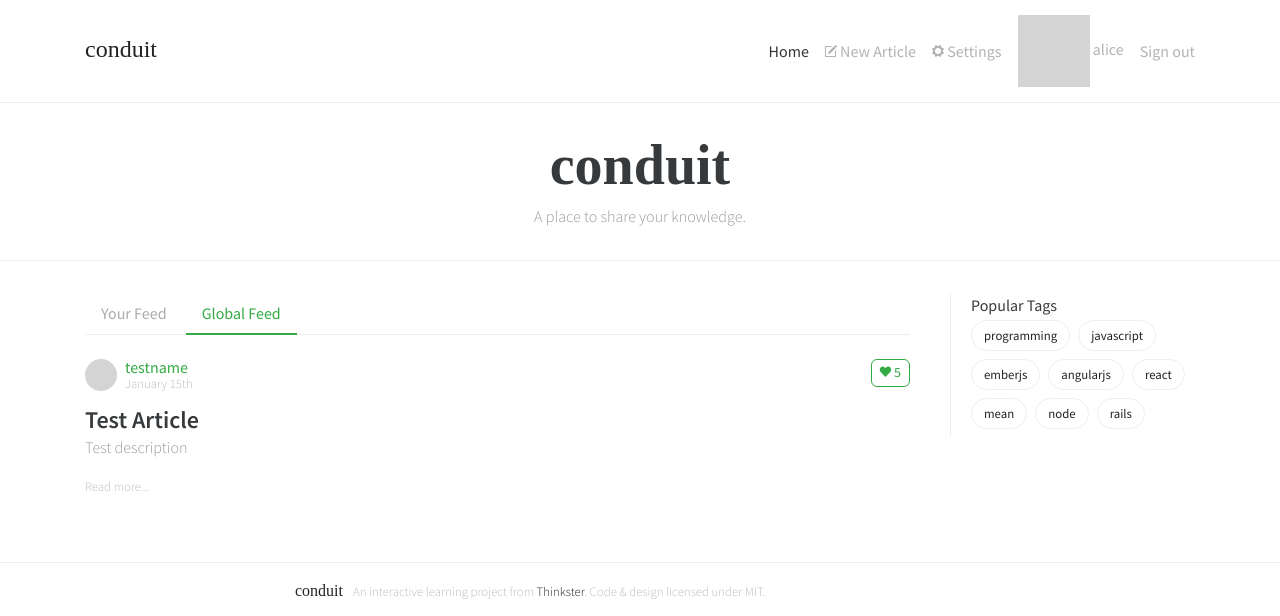
Test: ArticleList Component › adding article to favorite
expect the heading "Test Article" is shown: met, box [85,404,199,435]
Click the button "5".
click(890, 373)  # box [871,359,910,387]
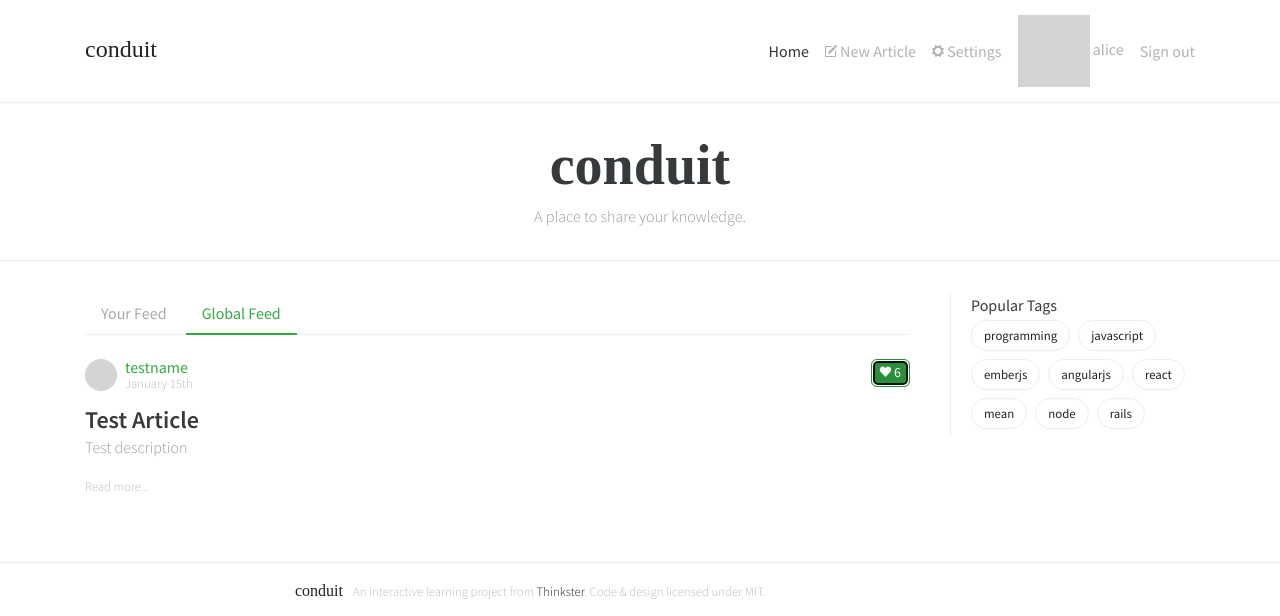
expect the button "6" is shown: met, box [871,359,910,387]
